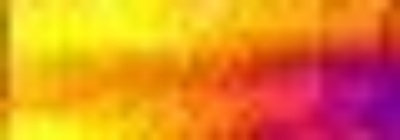Shadow: (214, 48, 400, 139)
